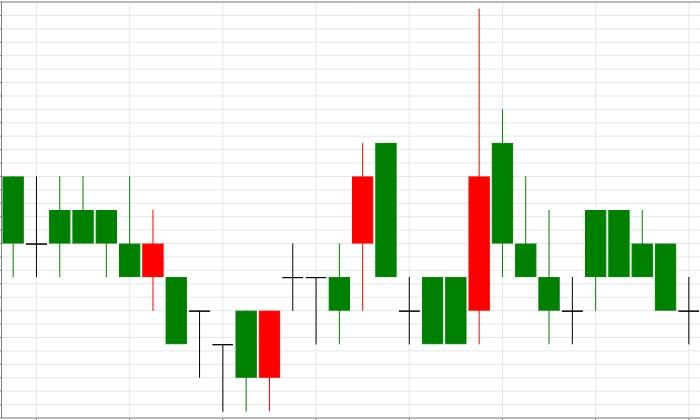three_black_crows_fall: (421, 8, 560, 344)
